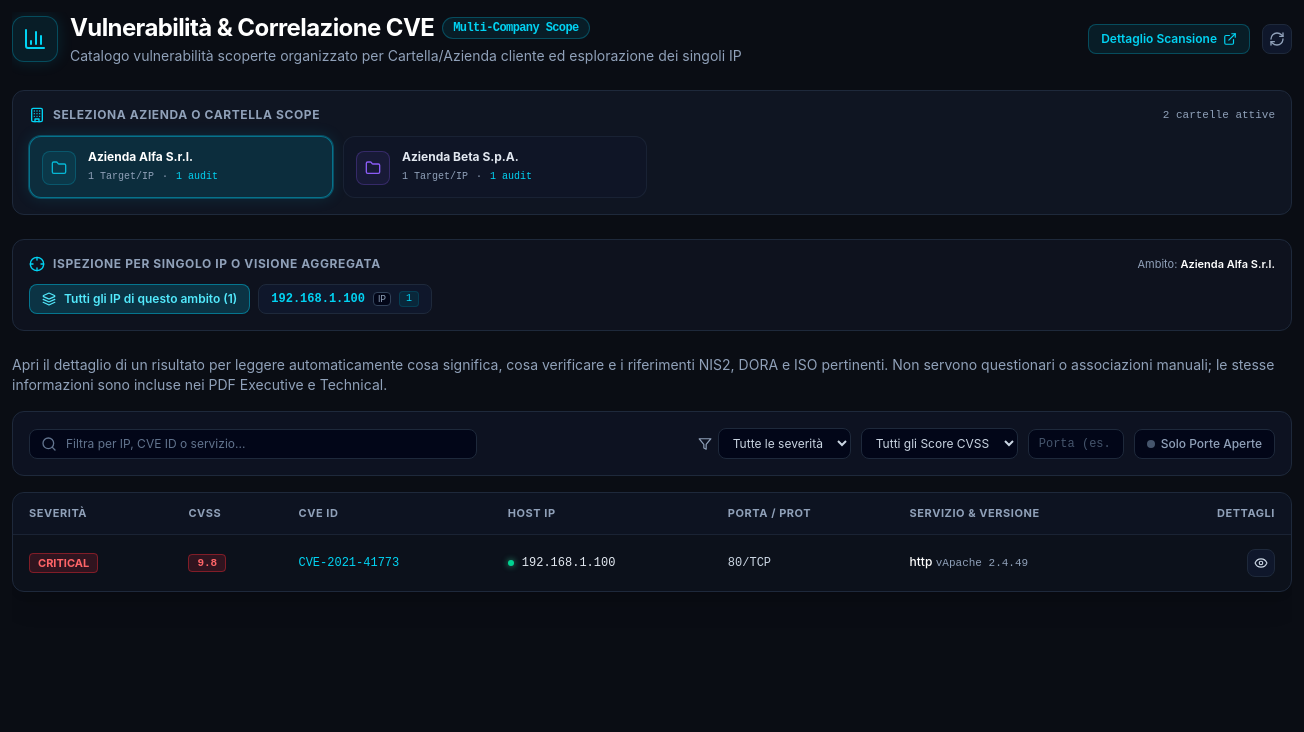
Findings Page - Multi-Company Scope & IP Inspection › allows selecting a specific IP pill to isolate findings for that target only
The width and height of the screenshot is (1304, 732).
Expected: the text "Azienda Alfa S.r.l." below "Seleziona Azienda o Cartella Scope" is shown, x1=88 y1=148 x2=193 y2=164
Click the 1st text "192.168.1.100".
click(318, 299)  # box x1=271 y1=291 x2=365 y2=307
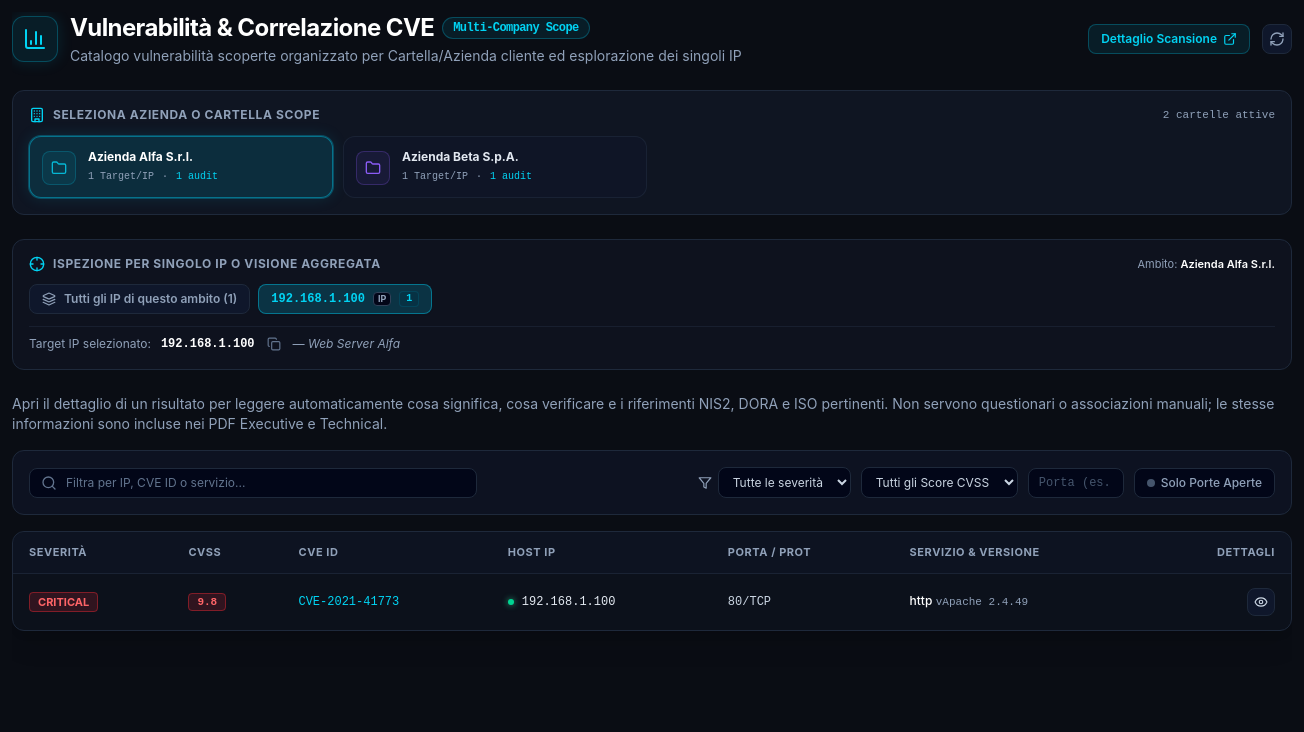
Expected: the text "CVE-2021-41773" is shown, x1=282 y1=573 x2=492 y2=630
Result: the text "Target IP selezionato:" is shown at x1=29 y1=336 x2=151 y2=352
